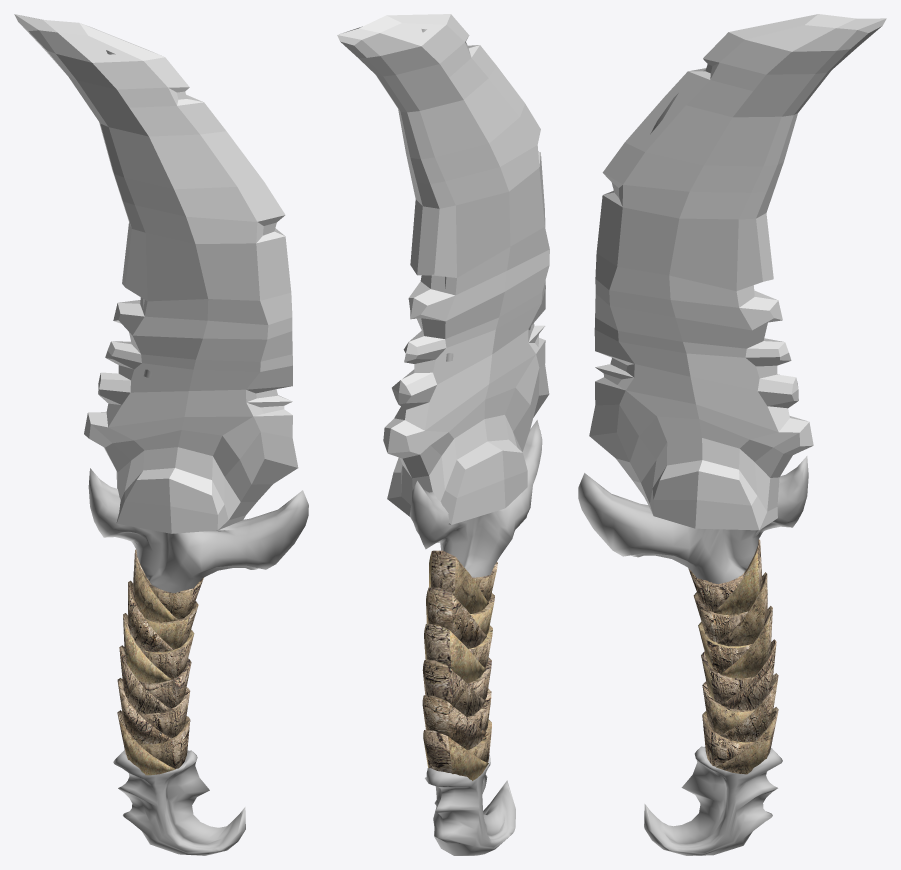
The model's file is KERIS MALUKU.fbx.
3 renders of one model, left to right at view 1: azimuth 90°, elevation 25°; view 2: azimuth 150°, elevation 25°; view 3: azimuth 270°, elevation 25°, orthographic. The views are drawn at different scales.
Parts seen in each view (by area): view 1: Cube.002, low_poly.003, low_poly, Cube.001; view 2: Cube.002, low_poly.003, low_poly, Cube.001; view 3: Cube.002, low_poly.003, low_poly, Cube.001.
Part boxes in pixels (left/top/right/bottom): Cube.002: left=14, top=14, right=298, bottom=533; low_poly.003: left=117, top=549, right=203, bottom=775; low_poly: left=88, top=468, right=308, bottom=593; Cube.001: left=113, top=750, right=245, bottom=855; Cube.002: left=337, top=14, right=549, bottom=524; low_poly.003: left=422, top=550, right=497, bottom=780; low_poly: left=409, top=420, right=542, bottom=577; Cube.001: left=425, top=755, right=515, bottom=855; Cube.002: left=589, top=14, right=886, bottom=530; low_poly.003: left=688, top=539, right=778, bottom=774; low_poly: left=578, top=456, right=808, bottom=583; Cube.001: left=644, top=746, right=782, bottom=855.
Bounding box in the file's own units: 27.57 × 233 × 75.79.
